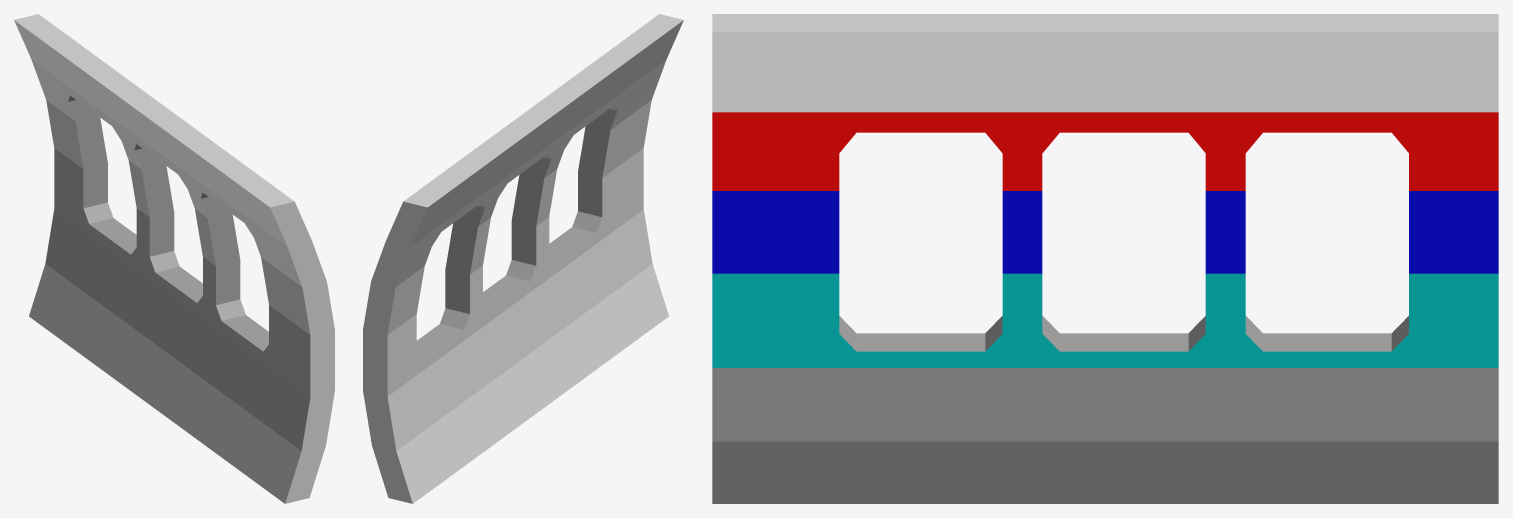
File: tenda1.1.fbx
The picture shows the model from 3 angles, left to right: view 1: azimuth 30°, elevation 25°; view 2: azimuth 150°, elevation 25°; view 3: azimuth 270°, elevation 25°; orthographic projection. The views are drawn at different scales.
Visible parts, largest first — view 1: polySurface38; view 2: polySurface38; view 3: polySurface38.
Part boxes in pixels (box(x1,y1,x2,y2)): polySurface38: box(14, 14, 334, 503); polySurface38: box(363, 14, 683, 503); polySurface38: box(712, 14, 1498, 503).
Bounding box in the file's own units: 12.65 × 56.05 × 86.75.
